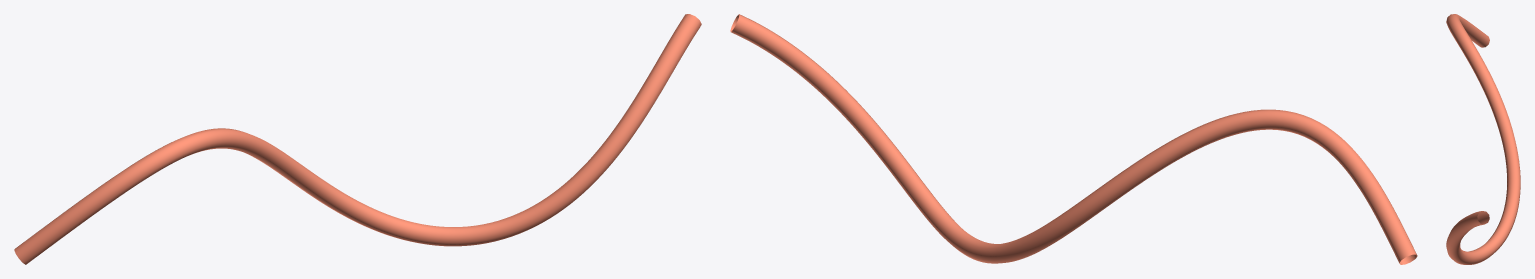
The model's file is mosaico-nabo.glb.
3 views of the same model, side by side, from view 1: azimuth 30°, elevation 25°; view 2: azimuth 150°, elevation 25°; view 3: azimuth 270°, elevation 25° (orthographic). The views are drawn at different scales.
Parts seen in each view (by area): view 1: tamanho; view 2: tamanho; view 3: tamanho.
Part boxes in pixels (bbox=[...]): tamanho: bbox=[14, 14, 701, 264]; tamanho: bbox=[730, 14, 1417, 264]; tamanho: bbox=[1446, 14, 1520, 264].
Bounding box in the file's own units: 0.4 × 0.1095 × 0.0546.
